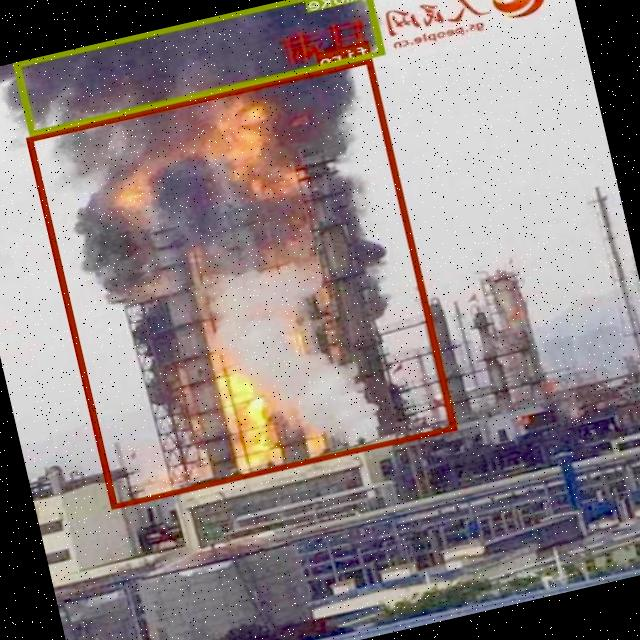fire: (28, 56, 458, 508)
smoke: (15, 0, 386, 134)
